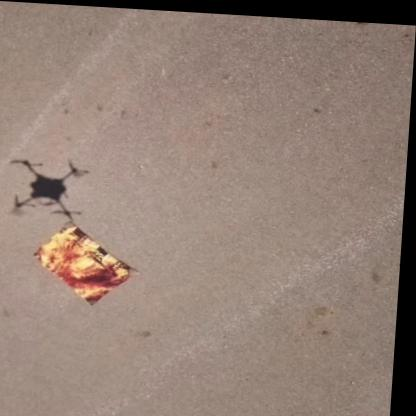fire-poster: (33, 218, 147, 306)
